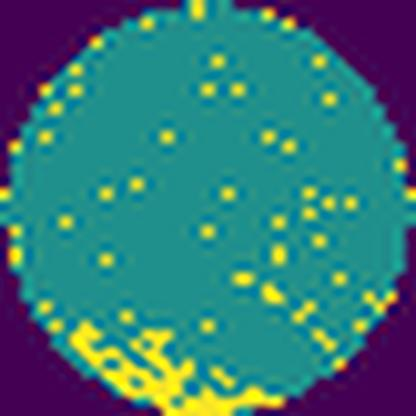Edge-Loc: (71, 316, 287, 415)
